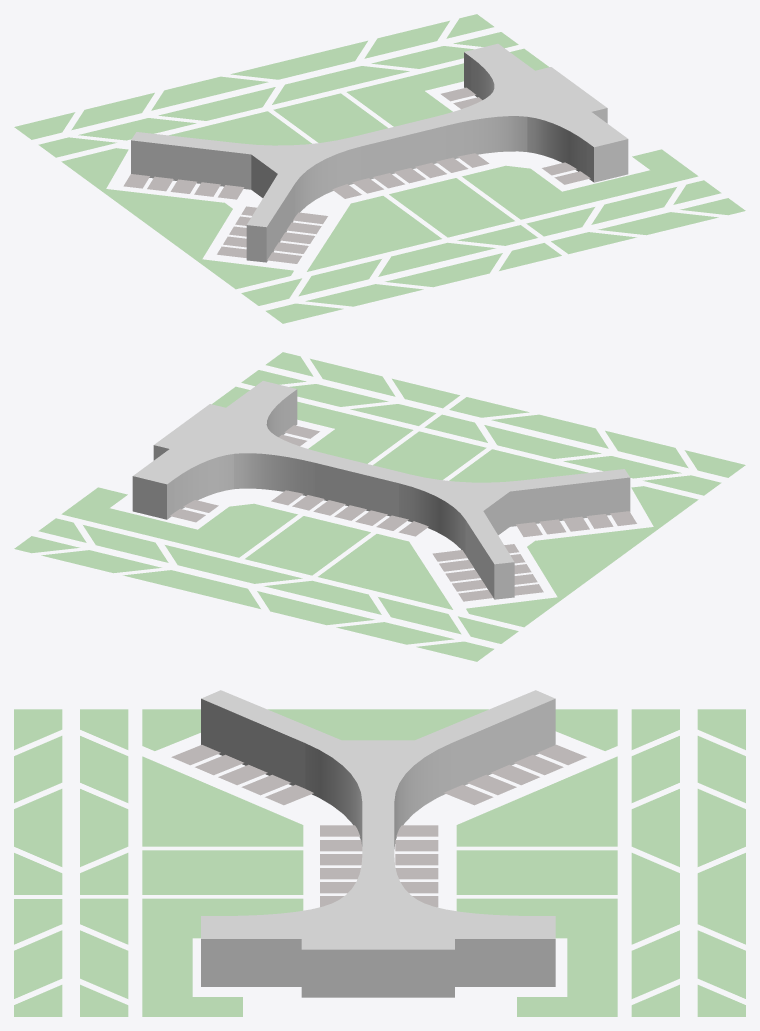
File: Airport.gltf
3 views of the same model, one above another, from view 1: azimuth 30°, elevation 25°; view 2: azimuth 150°, elevation 25°; view 3: azimuth 270°, elevation 25° (orthographic). The views are drawn at different scales.
Visible parts, largest first — view 1: Airport-Mat (×2), Airport; view 2: Airport-Mat (×2), Airport; view 3: Airport-Mat (×2), Airport.
Part boxes in pixels (left/top/right/bottom): Airport-Mat (×2): left=14, top=14, right=745, bottom=323; Airport: left=131, top=43, right=628, bottom=262; Airport-Mat (×2): left=14, top=352, right=745, bottom=661; Airport: left=132, top=381, right=630, bottom=599; Airport-Mat (×2): left=14, top=709, right=745, bottom=1016; Airport: left=201, top=690, right=555, bottom=997.
Bounding box in the file's own units: 26.7 × 1.95 × 26.87.
